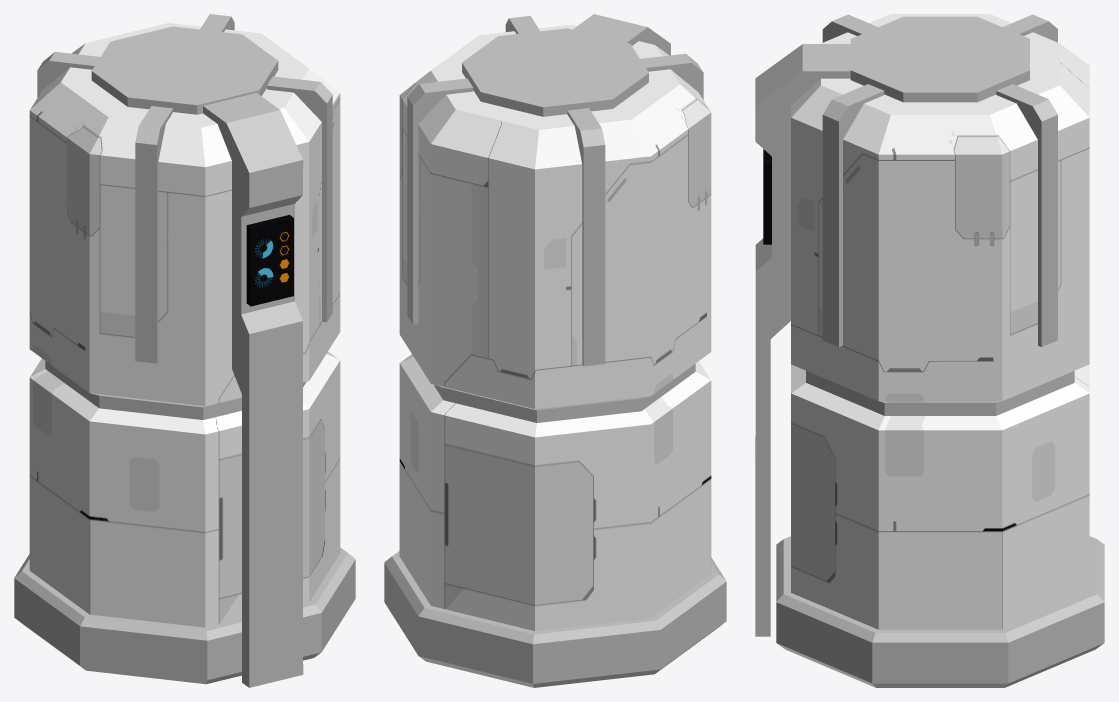
Rendered from SM_ContainerM_Cylinder_2.fbx.
3 views of the same model, side by side, from view 1: azimuth 30°, elevation 25°; view 2: azimuth 150°, elevation 25°; view 3: azimuth 270°, elevation 25° (orthographic). The views are drawn at different scales.
Visible parts, largest first — view 1: SM_ContainerM_Cylinder_2; view 2: SM_ContainerM_Cylinder_2; view 3: SM_ContainerM_Cylinder_2.
Part boxes in pixels (x1,y1,x2,y2): SM_ContainerM_Cylinder_2: (14,14,355,687); SM_ContainerM_Cylinder_2: (384,14,726,687); SM_ContainerM_Cylinder_2: (755,14,1104,687).
Size of the model in its own units: 58.68 by 112 by 62.41.
